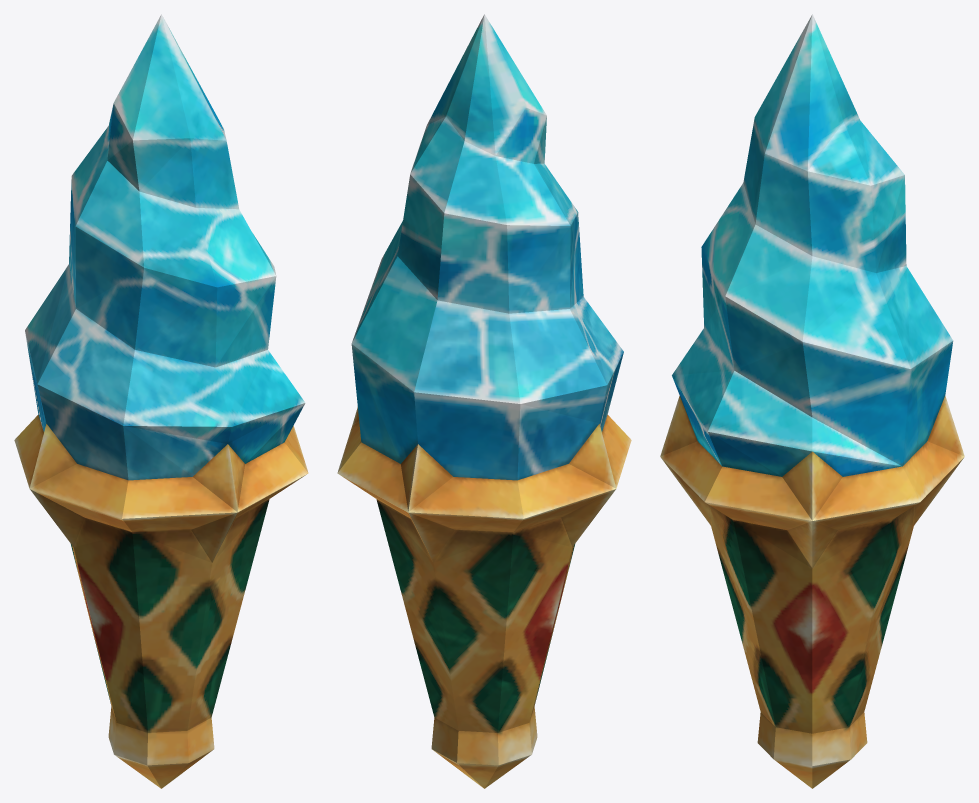
Rendered from Sheep_frozenCone.obj.
3 views of the same model, side by side, from view 1: azimuth 30°, elevation 25°; view 2: azimuth 150°, elevation 25°; view 3: azimuth 270°, elevation 25° (orthographic).
Parts seen in each view (by area): view 1: Sheep_frozenCone_tri; view 2: Sheep_frozenCone_tri; view 3: Sheep_frozenCone_tri.
Part boxes in pixels (x1,y1,x2,y2): Sheep_frozenCone_tri: (14, 14, 308, 788); Sheep_frozenCone_tri: (337, 14, 631, 788); Sheep_frozenCone_tri: (660, 14, 964, 788).
Bounding box in the file's own units: 0.184 × 0.5164 × 0.184.
Materials: 1 (1 with a texture image).
